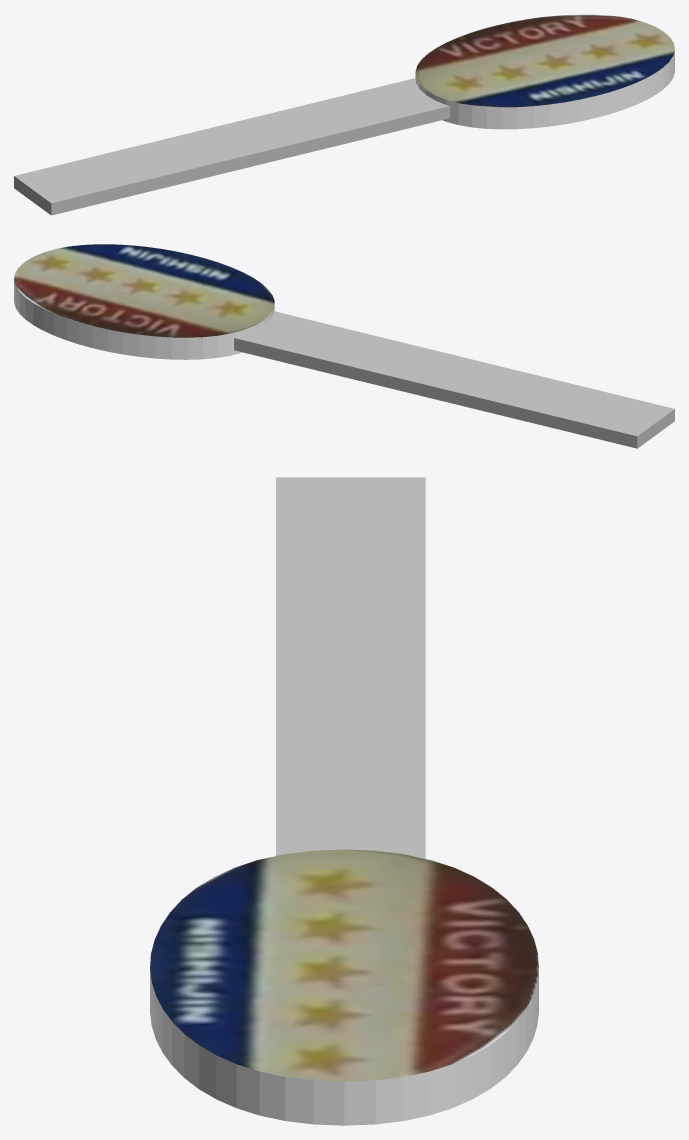
File: victory.fbx
3 renders of one model, top to bottom at view 1: azimuth 30°, elevation 25°; view 2: azimuth 150°, elevation 25°; view 3: azimuth 270°, elevation 25°, orthographic. The views are drawn at different scales.
Parts seen in each view (by area): view 1: BézierCircle, Cube; view 2: BézierCircle, Cube; view 3: BézierCircle, Cube.
Part boxes in pixels (left/top/right/bottom): BézierCircle: left=415, top=14, right=674, bottom=129; Cube: left=14, top=78, right=449, bottom=215; BézierCircle: left=14, top=244, right=274, bottom=359; Cube: left=234, top=311, right=674, bottom=448; BézierCircle: left=150, top=849, right=538, bottom=1125; Cube: left=276, top=477, right=425, bottom=858.
Bounding box in the file's own units: 208 × 6.95 × 55.64.
